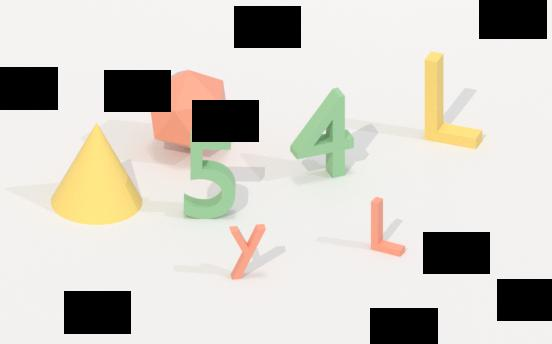4: (285, 88, 359, 178)
5: (183, 132, 239, 221)
Y: (225, 219, 271, 283)
dagiac: (146, 73, 237, 148)
l: (419, 48, 494, 145), (365, 193, 413, 260)
non: (48, 121, 140, 223)
